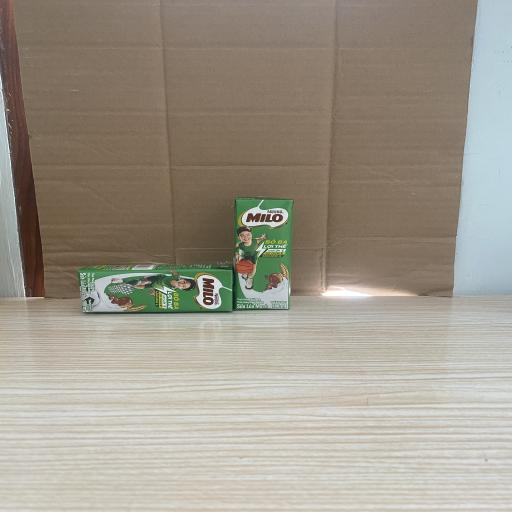milo: (78, 264, 233, 313), (233, 197, 294, 311)
